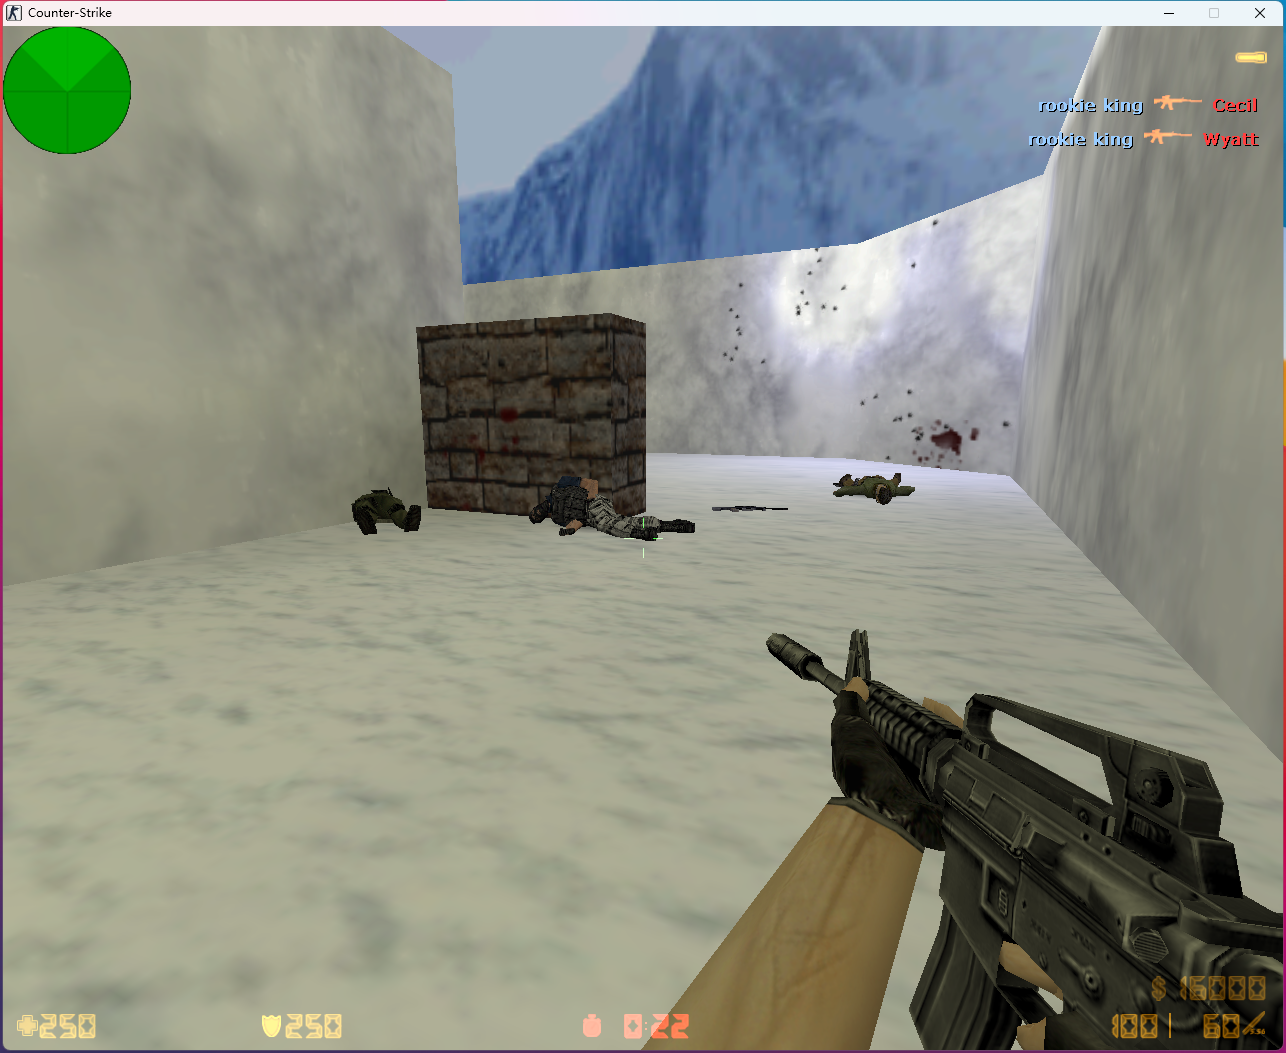dead: (526, 480, 695, 541), (320, 482, 432, 533), (834, 471, 918, 505)
weapon: (704, 500, 787, 518)
